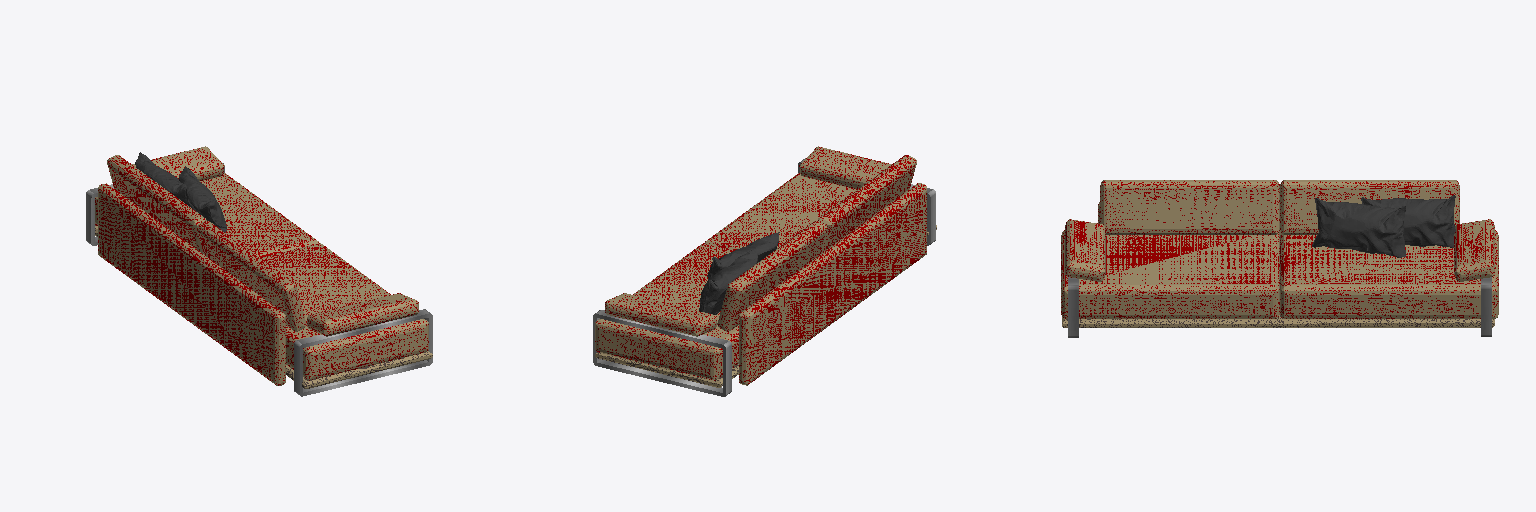
The picture shows the model from 3 angles: view 1: azimuth 30°, elevation 25°; view 2: azimuth 150°, elevation 25°; view 3: azimuth 270°, elevation 25°; orthographic projection.
Visible parts, largest first — view 1: mesh7.002_mesh7-geometry, mesh10.002_mesh10-geometry, mesh1.002_mesh1-geometry, mesh12.002_mesh12-geometry, mesh2.002_mesh2-geometry, mesh4.002_mesh4-geometry, mesh9.002_mesh9-geometry, mesh3.002_mesh3-geometry, mesh5.002_mesh5-geometry, mesh8.002_mesh8-geometry, mesh6.002_mesh6-geometry, mesh11.002_mesh11-geometry; view 2: mesh7.002_mesh7-geometry, mesh1.002_mesh1-geometry, mesh10.002_mesh10-geometry, mesh2.002_mesh2-geometry, mesh12.002_mesh12-geometry, mesh3.002_mesh3-geometry, mesh11.002_mesh11-geometry, mesh4.002_mesh4-geometry, mesh6.002_mesh6-geometry, mesh5.002_mesh5-geometry, mesh8.002_mesh8-geometry, mesh9.002_mesh9-geometry; view 3: mesh10.002_mesh10-geometry, mesh1.002_mesh1-geometry, mesh12.002_mesh12-geometry, mesh2.002_mesh2-geometry, mesh5.002_mesh5-geometry, mesh8.002_mesh8-geometry, mesh6.002_mesh6-geometry, mesh4.002_mesh4-geometry, mesh3.002_mesh3-geometry, mesh9.002_mesh9-geometry, mesh11.002_mesh11-geometry.
Part boxes in pixels (bbox=[...]): mesh7.002_mesh7-geometry: bbox=[98, 183, 285, 385]; mesh10.002_mesh10-geometry: bbox=[260, 243, 428, 380]; mesh1.002_mesh1-geometry: bbox=[95, 173, 318, 257]; mesh12.002_mesh12-geometry: bbox=[197, 220, 306, 331]; mesh2.002_mesh2-geometry: bbox=[107, 155, 205, 253]; mesh4.002_mesh4-geometry: bbox=[307, 293, 418, 336]; mesh9.002_mesh9-geometry: bbox=[294, 309, 432, 396]; mesh3.002_mesh3-geometry: bbox=[132, 146, 224, 181]; mesh5.002_mesh5-geometry: bbox=[179, 166, 226, 232]; mesh8.002_mesh8-geometry: bbox=[95, 225, 432, 388]; mesh6.002_mesh6-geometry: bbox=[135, 152, 192, 208]; mesh11.002_mesh11-geometry: bbox=[86, 163, 224, 245]; mesh7.002_mesh7-geometry: bbox=[739, 183, 926, 385]; mesh1.002_mesh1-geometry: bbox=[595, 243, 738, 380]; mesh10.002_mesh10-geometry: bbox=[705, 173, 856, 250]; mesh2.002_mesh2-geometry: bbox=[717, 220, 826, 331]; mesh12.002_mesh12-geometry: bbox=[818, 155, 916, 253]; mesh3.002_mesh3-geometry: bbox=[605, 293, 716, 336]; mesh11.002_mesh11-geometry: bbox=[593, 310, 731, 396]; mesh4.002_mesh4-geometry: bbox=[799, 146, 891, 189]; mesh6.002_mesh6-geometry: bbox=[699, 249, 757, 314]; mesh5.002_mesh5-geometry: bbox=[707, 232, 779, 279]; mesh8.002_mesh8-geometry: bbox=[595, 225, 936, 387]; mesh9.002_mesh9-geometry: bbox=[798, 158, 935, 245]; mesh10.002_mesh10-geometry: bbox=[1061, 230, 1279, 318]; mesh1.002_mesh1-geometry: bbox=[1280, 230, 1498, 318]; mesh12.002_mesh12-geometry: bbox=[1100, 180, 1279, 234]; mesh2.002_mesh2-geometry: bbox=[1280, 180, 1459, 234]; mesh5.002_mesh5-geometry: bbox=[1312, 198, 1405, 257]; mesh8.002_mesh8-geometry: bbox=[1062, 315, 1494, 327]; mesh6.002_mesh6-geometry: bbox=[1361, 195, 1455, 247]; mesh4.002_mesh4-geometry: bbox=[1065, 219, 1105, 281]; mesh3.002_mesh3-geometry: bbox=[1454, 219, 1494, 281]; mesh9.002_mesh9-geometry: bbox=[1068, 277, 1078, 337]; mesh11.002_mesh11-geometry: bbox=[1481, 277, 1491, 336].
Bounding box in the file's own units: 0.3402 × 0.2276 × 0.9124.
Materials: 5 (1 with a texture image).